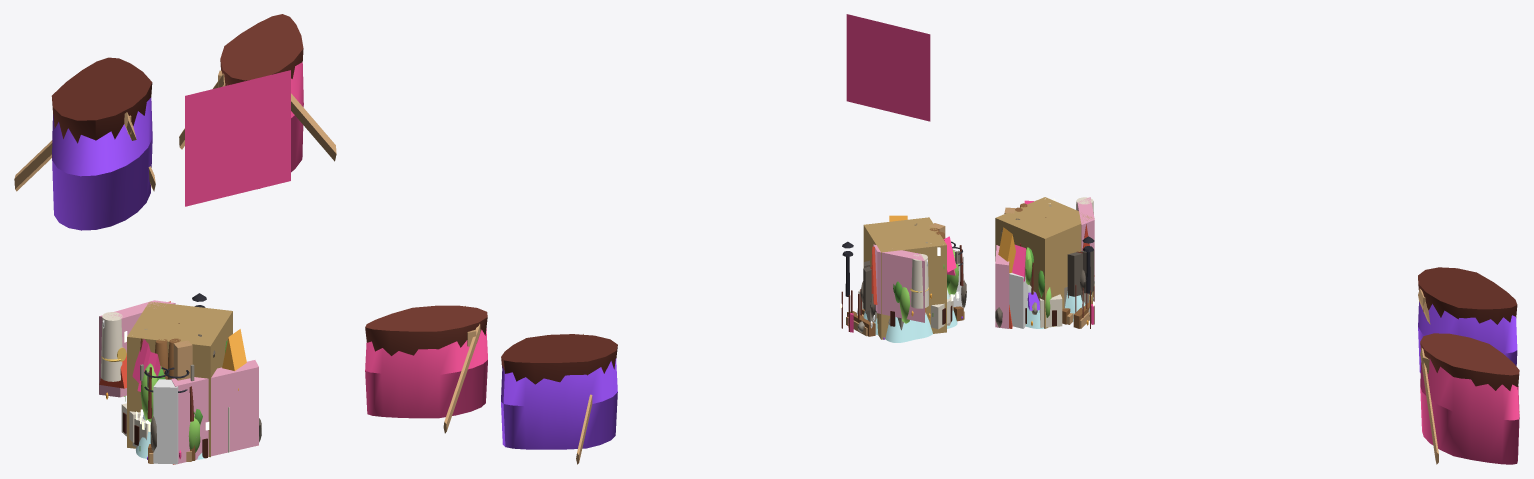
Rendered from ile-port.glb.
3 views of the same model, side by side, from view 1: azimuth 30°, elevation 25°; view 2: azimuth 150°, elevation 25°; view 3: azimuth 270°, elevation 25° (orthographic). The views are drawn at different scales.
Visible parts, largest first — view 1: port_decor, port_barque0, port_drapeau, port_barque1; view 2: port_barque1, port_barque0, port_decor, port_drapeau, port_terrain; view 3: port_decor, port_barque1, port_barque0, port_terrain.
Boxes of the visible parts, box(x1,y1,x2,y2) form: port_decor: box(99, 293, 261, 464); port_barque0: box(14, 57, 155, 230); port_drapeau: box(185, 70, 290, 206); port_barque1: box(179, 14, 336, 188); port_barque1: box(365, 305, 487, 433); port_barque0: box(501, 334, 617, 464); port_decor: box(840, 215, 966, 339); port_drapeau: box(846, 14, 930, 121); port_terrain: box(863, 288, 957, 342); port_decor: box(995, 197, 1094, 328); port_barque1: box(1420, 333, 1519, 464); port_barque0: box(1418, 267, 1517, 372); port_terrain: box(1025, 284, 1085, 328).
Size of the model in its own units: 8.49 by 6.41 by 10.55.
